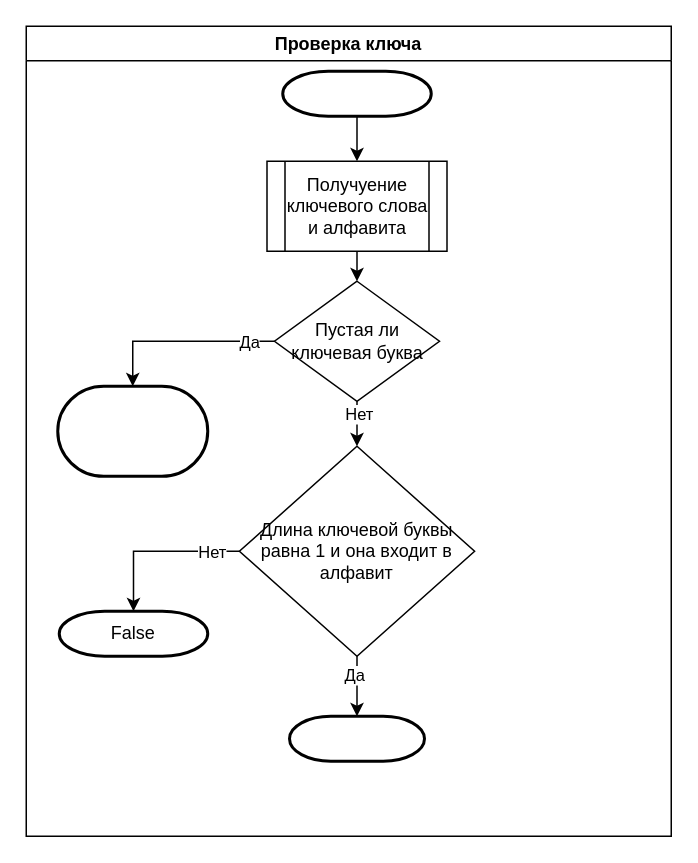
This 698x863 diagram has some shape labels left out. The centre of each missing label's shape, as x and y in pixels:
True: point (356, 738)
Начало: point (356, 93)
Ошибка Некорректный ввод: point (132, 430)
